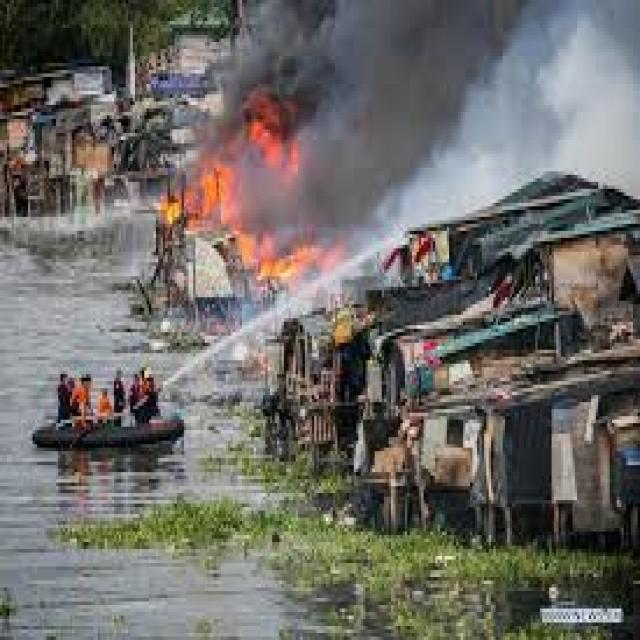Fire: (156, 156, 240, 248), (240, 95, 306, 192), (244, 237, 344, 289)
Smoke: (253, 2, 640, 220)
